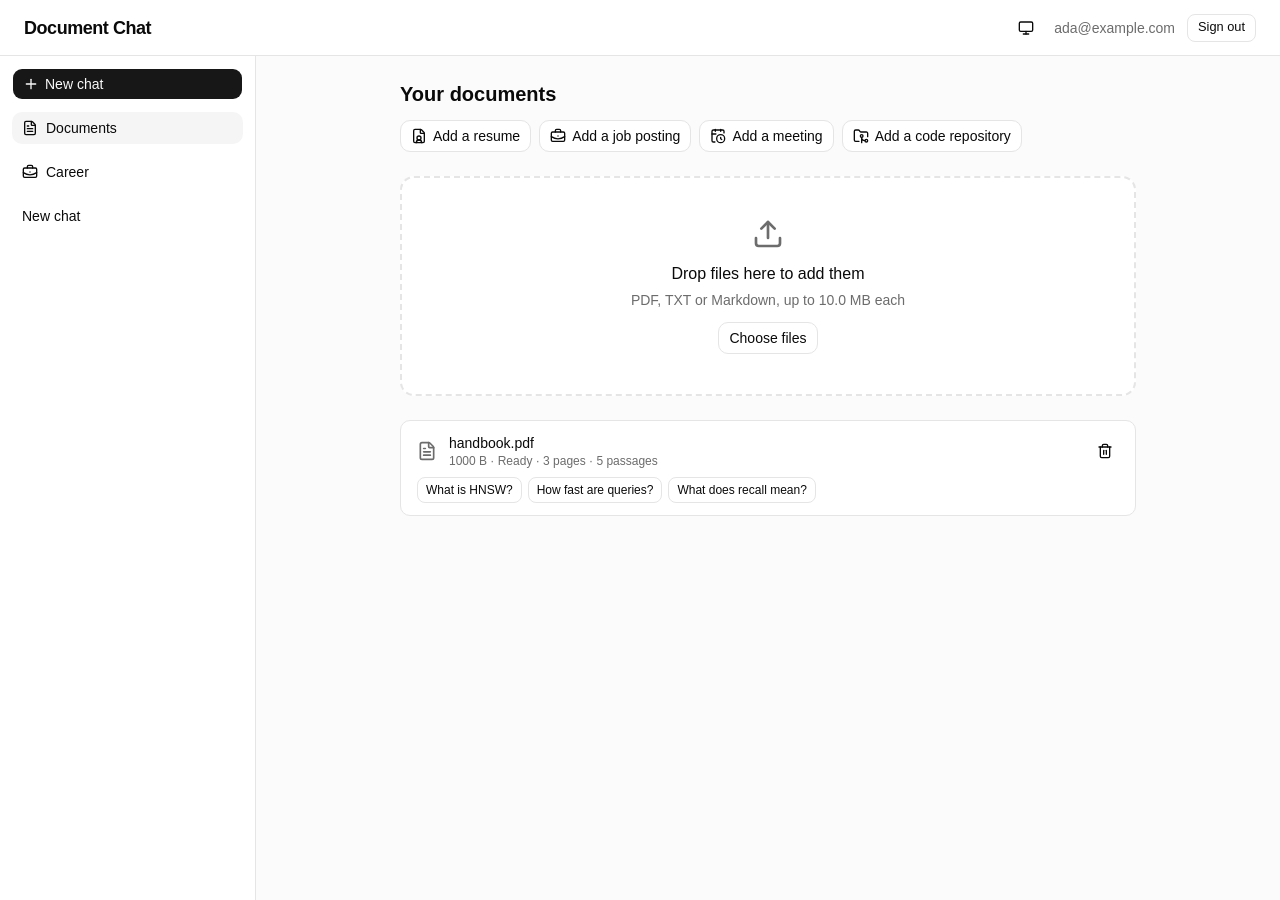
Scenario: suggested questions on the documents page › starts a new chat and asks the question in it
Click the button "What does recall mean?". click: (742, 490)
box: [668,477,816,503]
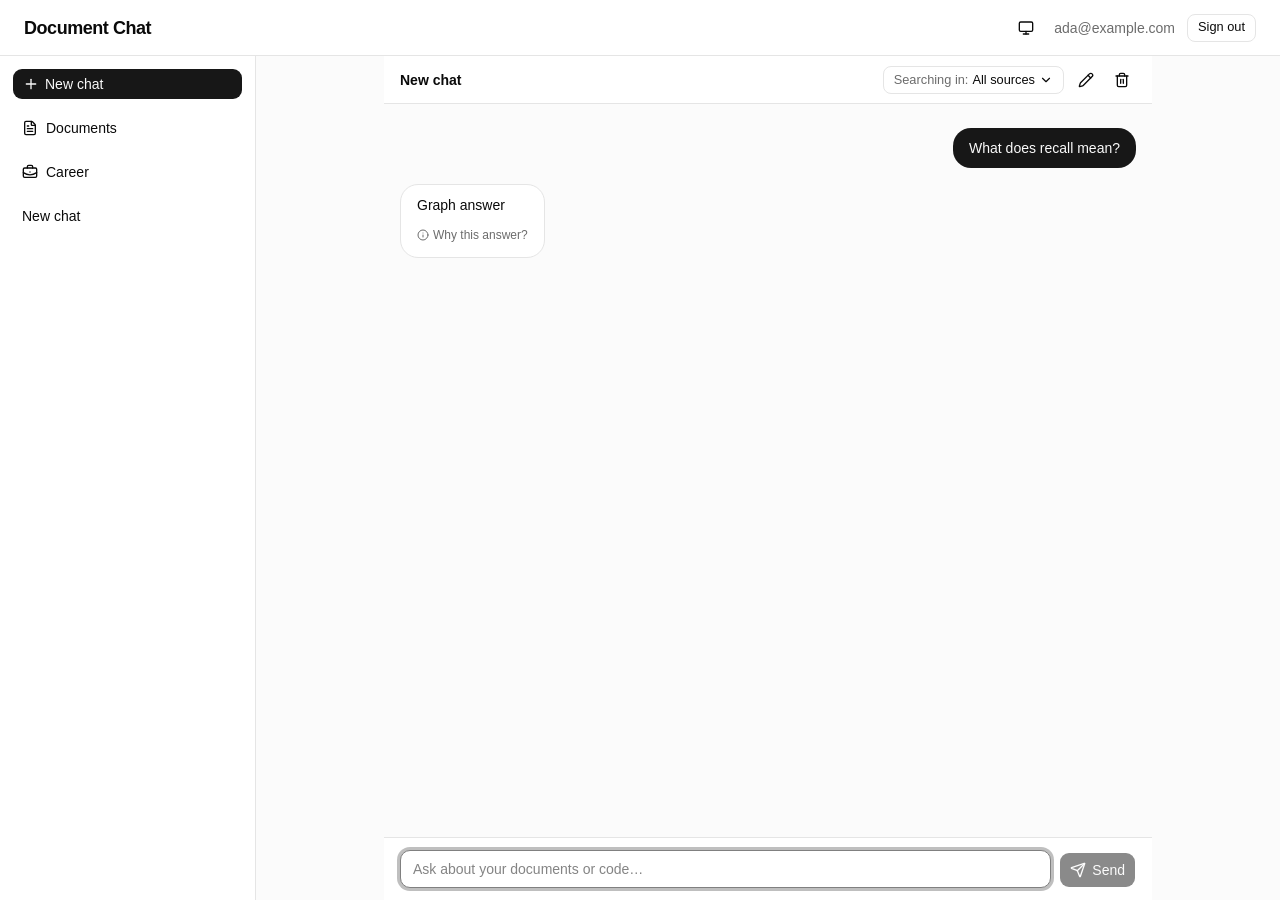
Expected: the text "What does recall mean?" is shown, [969,138,1120,158]
Expected: the text "Graph answer" is shown, [417,197,505,213]
